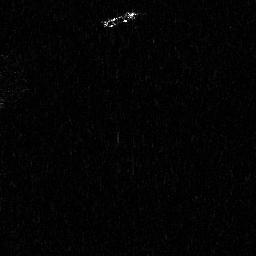ship: (100, 12, 140, 27)
